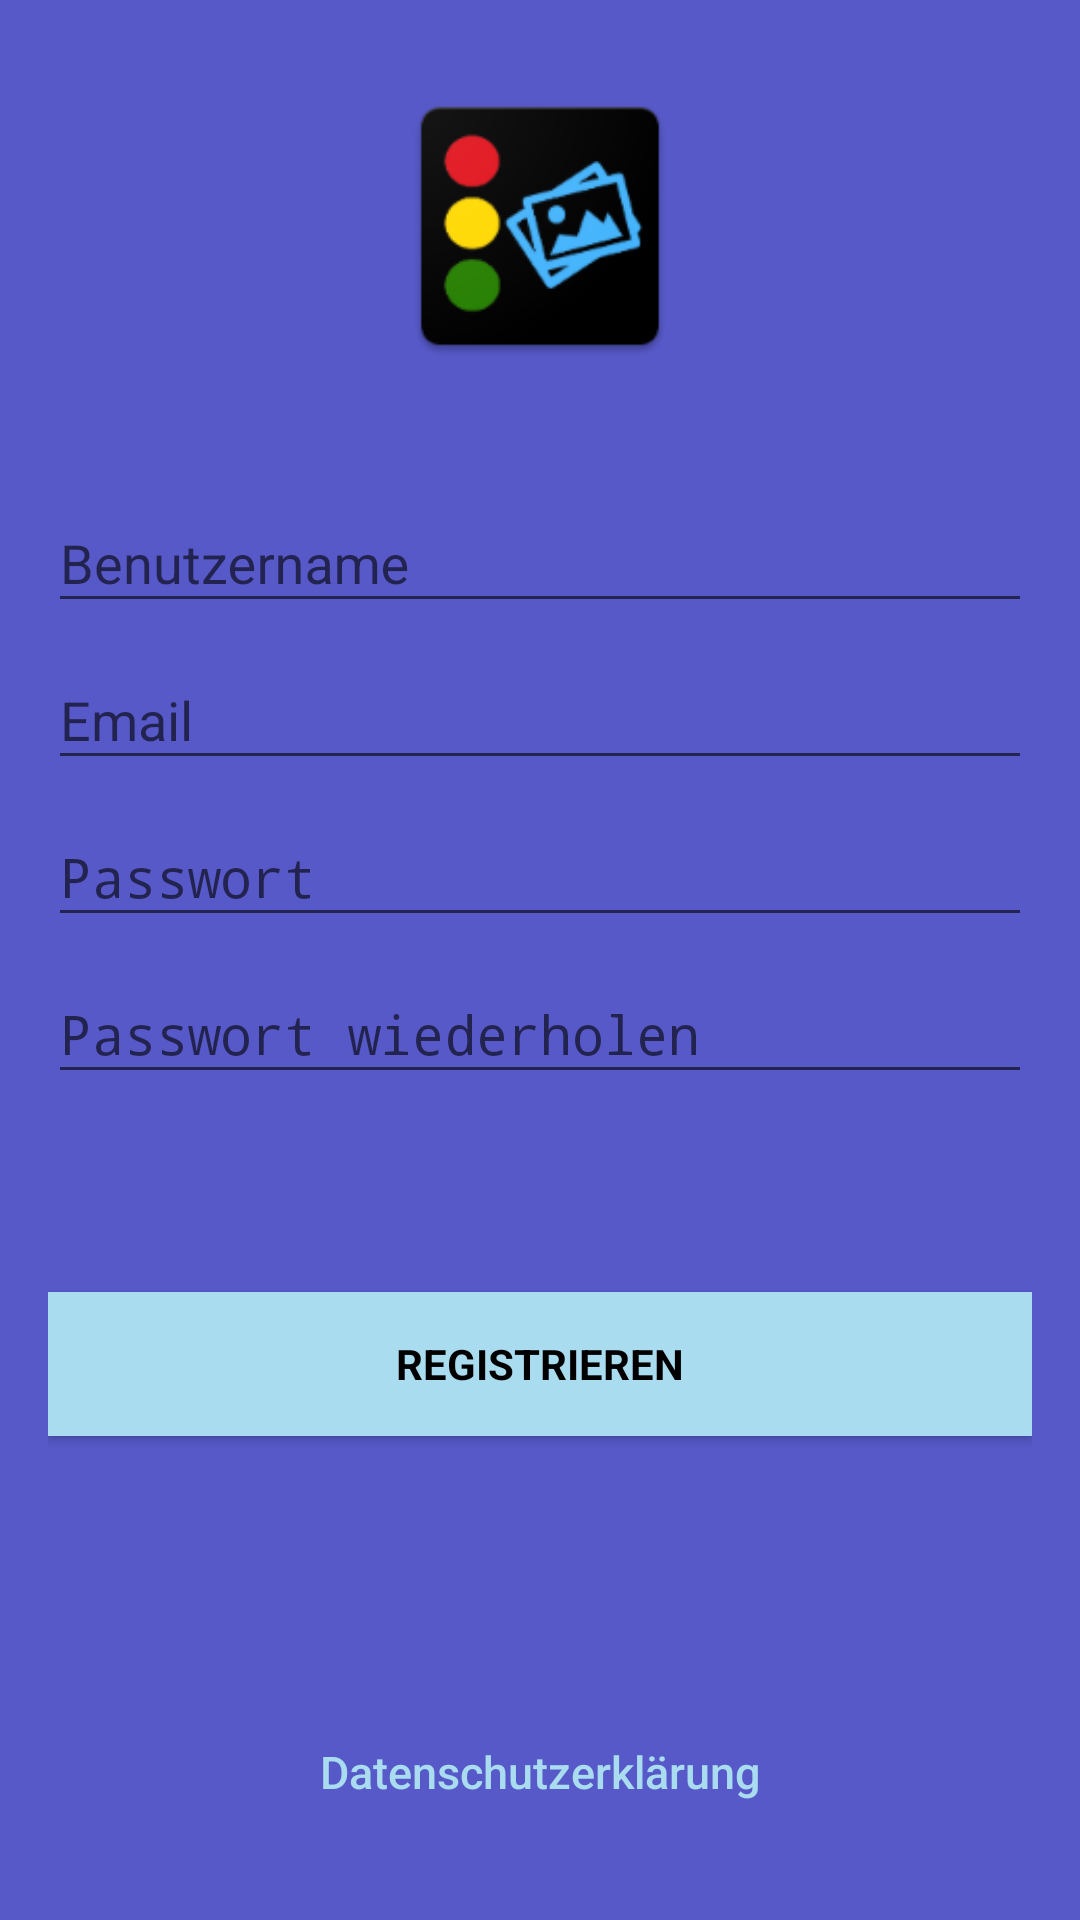

Named icons in this screenshot (1080w x 1920h) and their centers, point (x, y):
app: point (540, 228)
